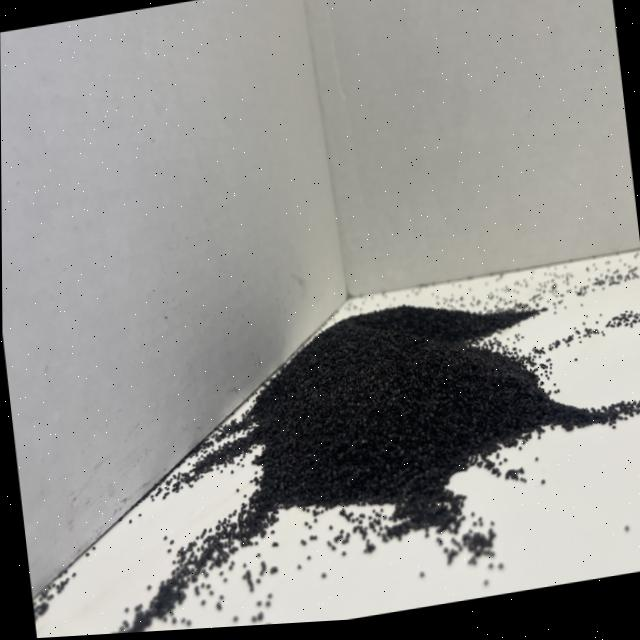Poppy Seeds: (221, 283, 582, 557)
